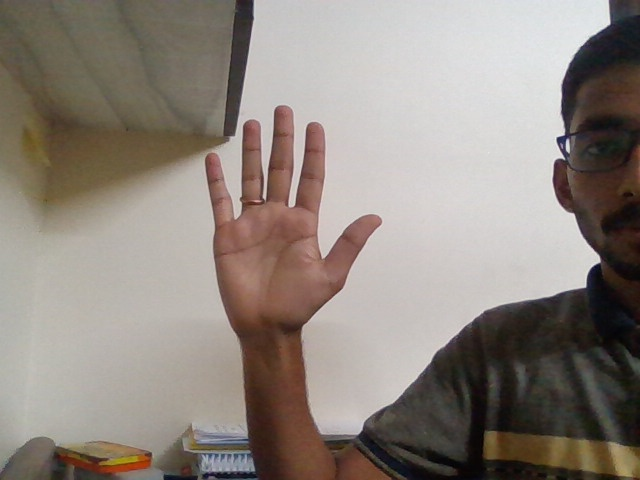Hello: (180, 93, 399, 361)
